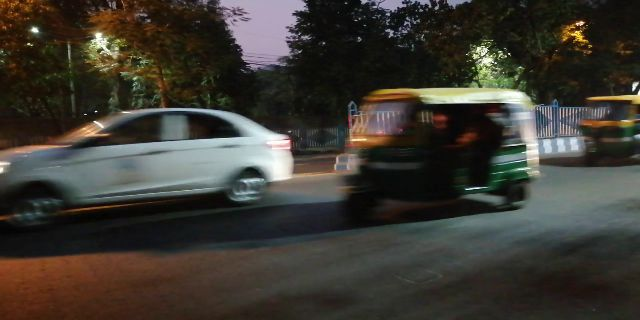Autorickshaw: (339, 82, 545, 210), (575, 95, 634, 158)
Car: (17, 102, 293, 223)
